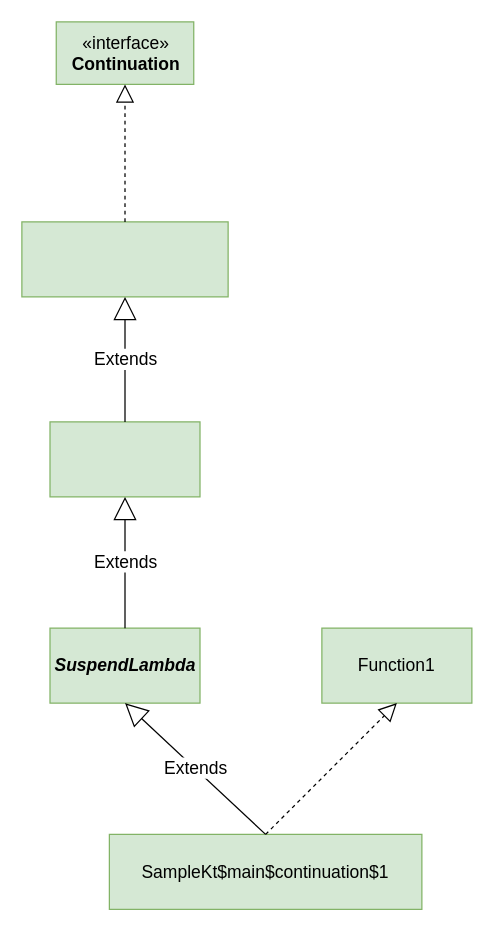
This 494x931 diagram has some shape labels left out. Each missing label, with the centre of its shape:
"BaseContinuationImpl" goes at point 124,259.
"ContinuationImpl" goes at point 124,459.
